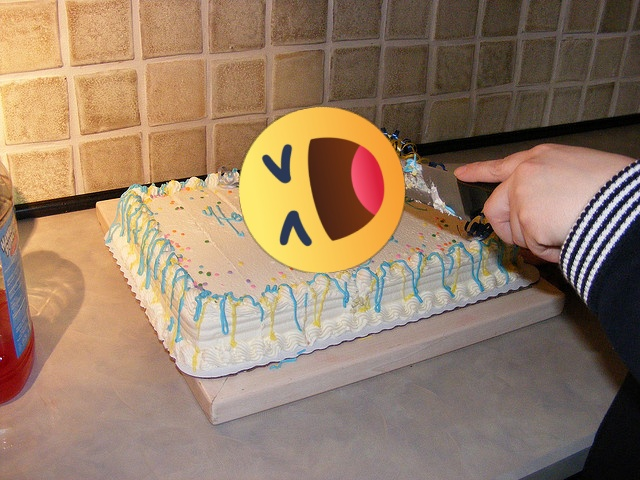haha: (239, 107, 405, 273)
